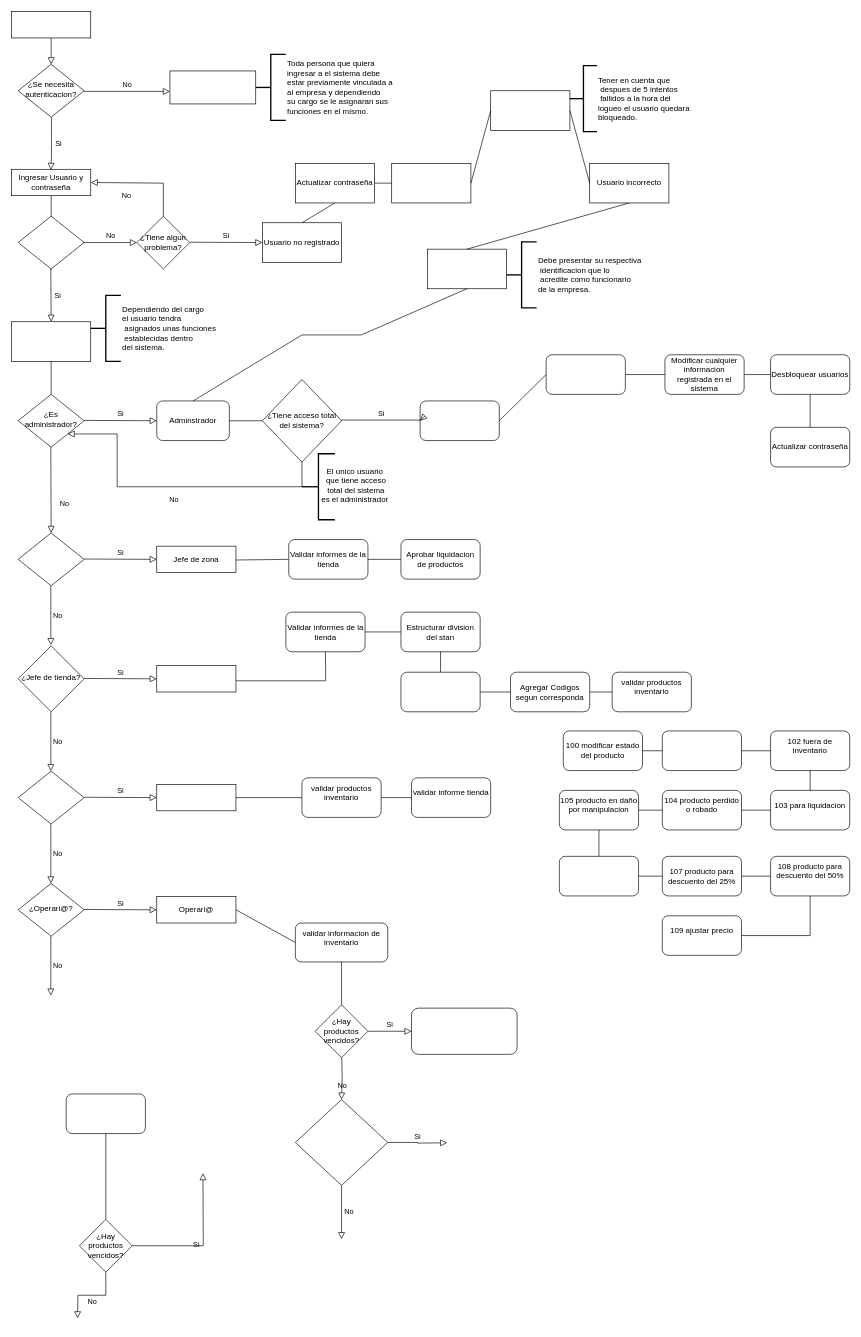
Image size: 861x1337. Some labels were removed from this diagram. Here are the shapes that lost their labels. From the top down, the centre of each, then its label:
point 51,24: Inicio Software
point 212,87: Sin usuario y contraseña no puede acceder a el sistema
point 530,110: Usuario bloqueado
point 431,183: Contraseña incorrecta
point 50,242: ¿Se logueo correctamente?
point 467,268: Ponerse en contacto con el administador del sistema
point 51,341: Cargo del usuario ingresado
point 585,374: Cambiar estado de usuario
point 459,420: Crear Usuarios
point 50,559: ¿Es Jefe de zona?
point 196,678: Jefe de tienda
point 440,692: Manejo codigos segun corresponda
point 702,750: 101 agregar
point 50,797: ¿Supervisor@?
point 196,797: Supervisor@
point 599,876: 106 producto vencido
point 464,1030: Dejar observaciones del producto en el sistema y retirar del stan
point 105,1113: validar informacion de stan de descuentos
point 341,1142: ¿Hay productos para descuento?
